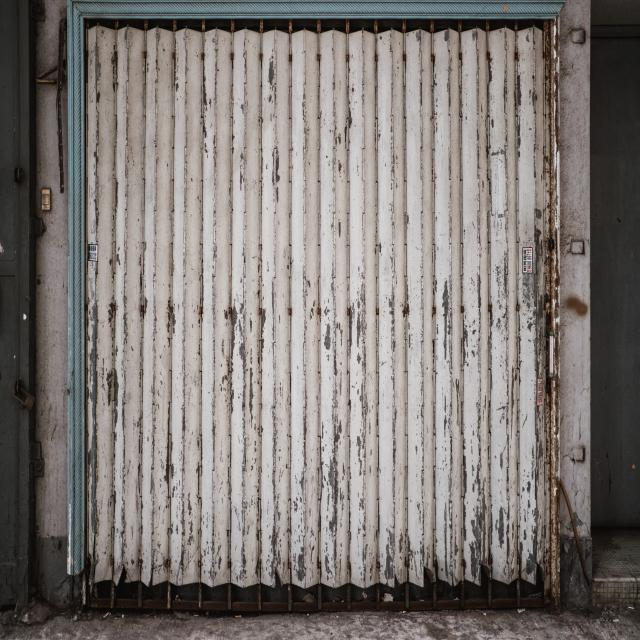Metal: (86, 25, 544, 586)
